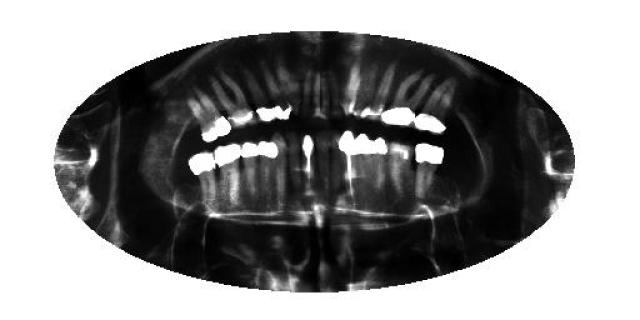Fillings: (381, 72, 430, 128), (244, 65, 291, 120), (186, 90, 232, 142), (211, 72, 251, 126), (415, 80, 454, 135), (211, 144, 241, 208), (188, 150, 218, 209), (412, 144, 443, 198), (241, 144, 261, 204), (259, 142, 279, 198), (351, 134, 370, 192), (368, 138, 388, 192)
Implant: (339, 131, 355, 199), (301, 133, 315, 185)
